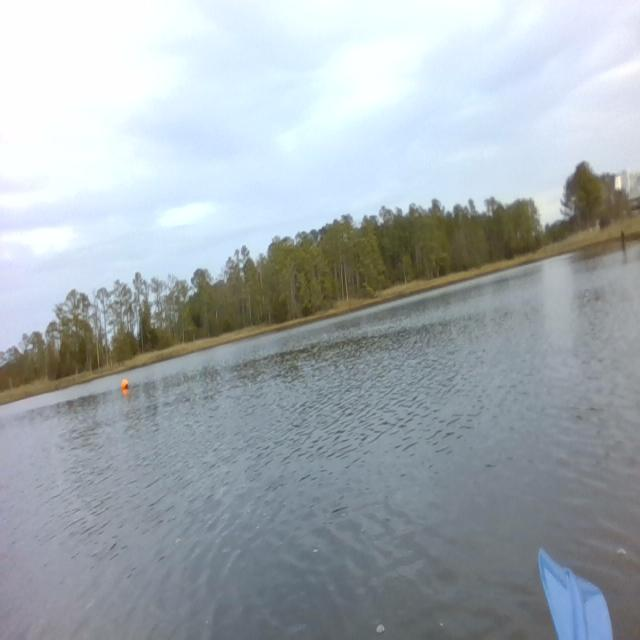Buoy: (120, 376, 130, 394)
